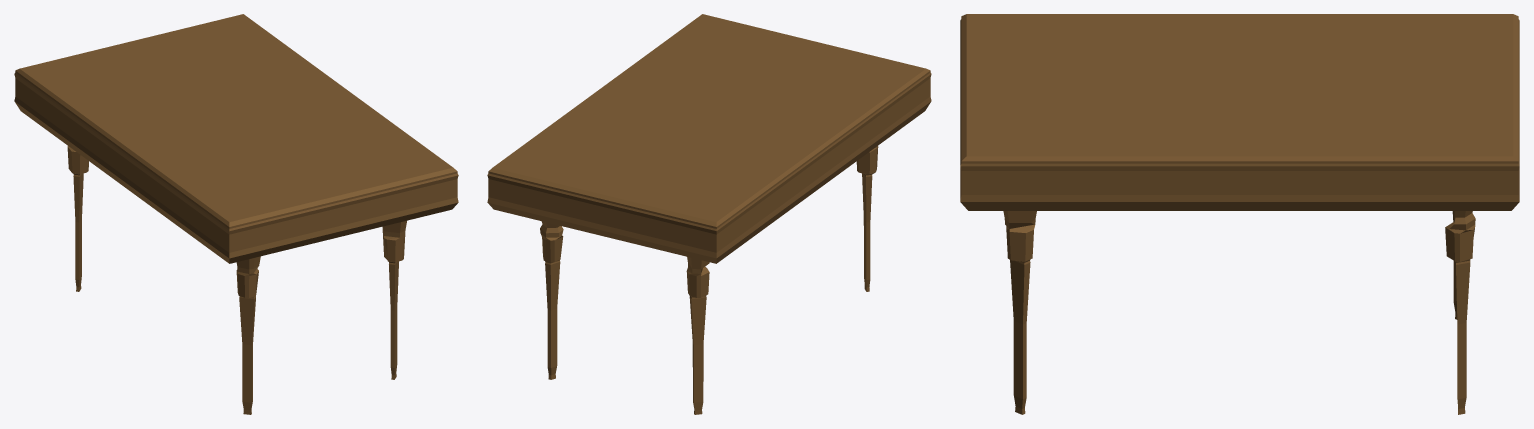
Rendered from Table_04_Mesh.fbx.
The picture shows the model from 3 angles, left to right: view 1: azimuth 30°, elevation 25°; view 2: azimuth 150°, elevation 25°; view 3: azimuth 270°, elevation 25°; orthographic projection. The views are drawn at different scales.
Visible parts, largest first — view 1: polySurface89; view 2: polySurface89; view 3: polySurface89.
Part boxes in pixels (x1=…): polySurface89: x1=14, y1=14, x2=458, y2=414; polySurface89: x1=487, y1=14, x2=931, y2=414; polySurface89: x1=960, y1=14, x2=1519, y2=414.
Size of the model in its own units: 70.87 by 63.81 by 115.
